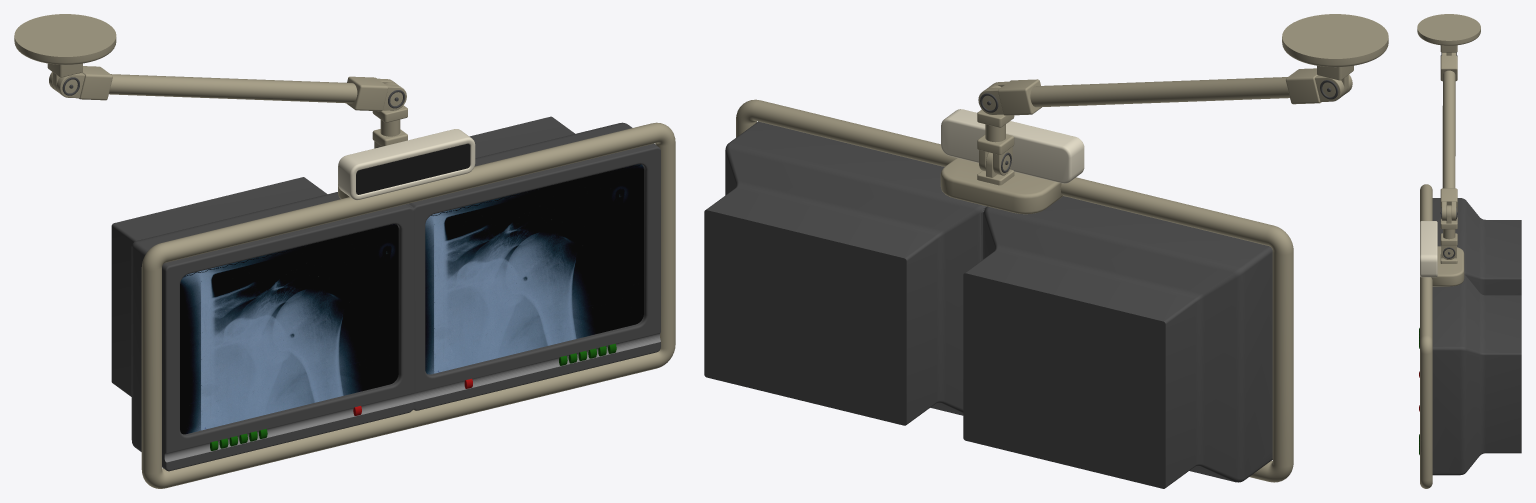
The model's file is monitors.FBX.
3 views of the same model, side by side, from view 1: azimuth 30°, elevation 25°; view 2: azimuth 150°, elevation 25°; view 3: azimuth 270°, elevation 25° (orthographic). The views are drawn at different scales.
Parts seen in each view (by area): view 1: cadnav.com; view 2: cadnav.com; view 3: cadnav.com.
Part boxes in pixels (x1,y1,x2,y2): cadnav.com: (14,14,675,488); cadnav.com: (704,14,1388,488); cadnav.com: (1417,14,1521,488).
Bounding box in the file's own units: 766 × 528 × 175.
Materials: 9 (1 with a texture image).
